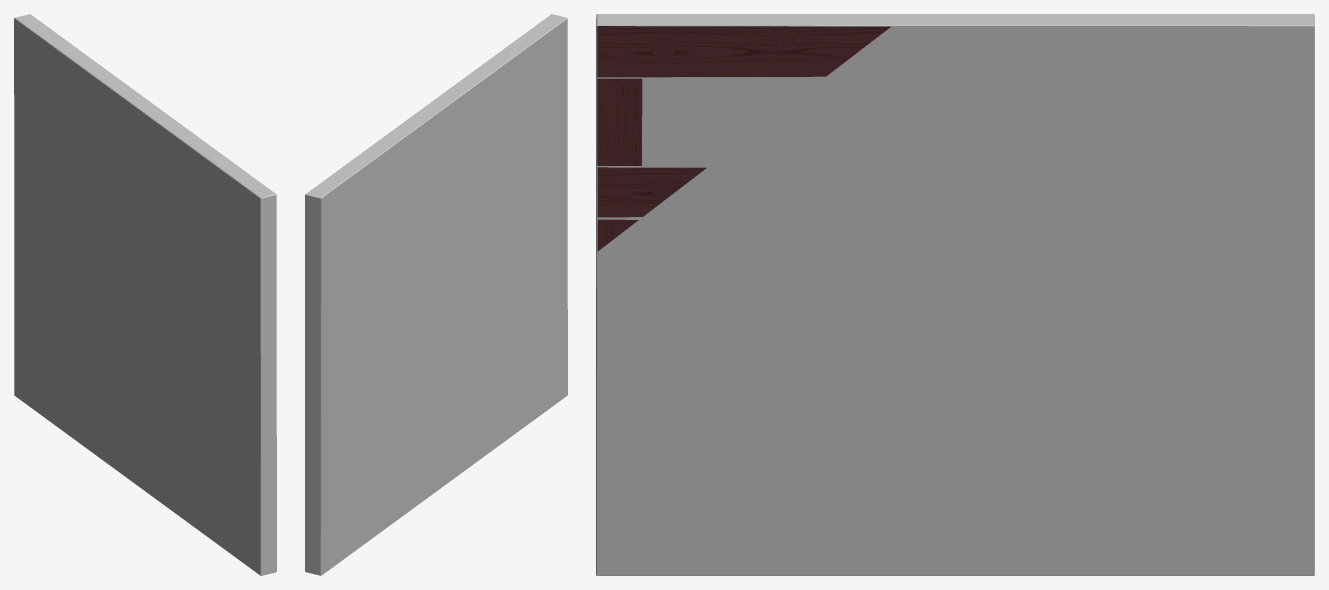
Rendered from SM_JGJM_Doorframe_A.fbx.
3 views of the same model, side by side, from view 1: azimuth 30°, elevation 25°; view 2: azimuth 150°, elevation 25°; view 3: azimuth 270°, elevation 25° (orthographic). The views are drawn at different scales.
Parts seen in each view (by area): view 1: SM_JGJM_Doorframe_A_ConvexHulls; view 2: SM_JGJM_Doorframe_A_ConvexHulls; view 3: SM_JGJM_Doorframe_A_ConvexHulls, SM_JGJM_Doorframe_A.
Part boxes in pixels (x1,y1,x2,y2): SM_JGJM_Doorframe_A_ConvexHulls: (14, 14, 276, 575); SM_JGJM_Doorframe_A_ConvexHulls: (305, 14, 567, 575); SM_JGJM_Doorframe_A_ConvexHulls: (596, 14, 1314, 575); SM_JGJM_Doorframe_A: (597, 26, 890, 251).
Bounding box in the file's own units: 11.46 × 297 × 251.
Materials: 2 (1 with a texture image).
